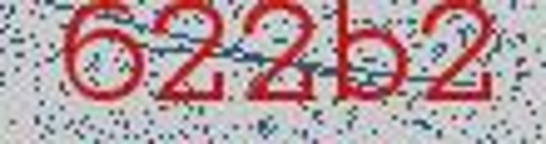2: (236, 1, 323, 116), (416, 1, 501, 116), (150, 1, 228, 114)
6: (56, 1, 149, 118)
b: (328, 1, 412, 116)
